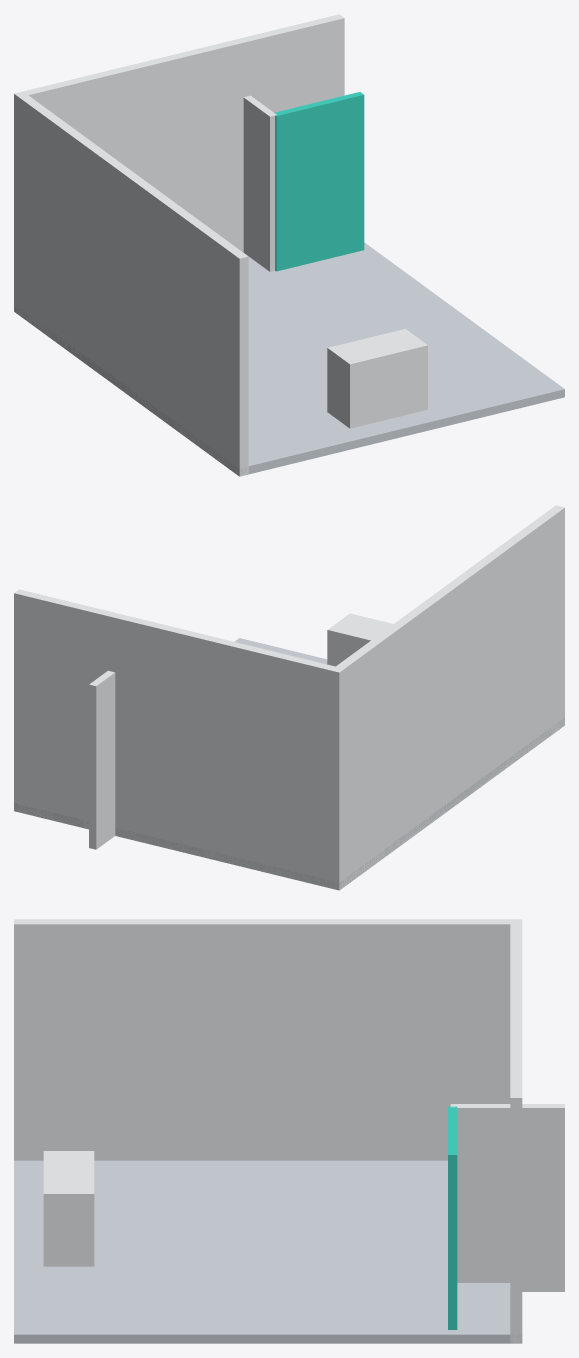
3 renders of one model, top to bottom at view 1: azimuth 30°, elevation 25°; view 2: azimuth 150°, elevation 25°; view 3: azimuth 270°, elevation 25°, orthographic. The views are drawn at different scales.
Visible parts, largest first — view 1: Exhibition Booth Concept; view 2: Exhibition Booth Concept; view 3: Exhibition Booth Concept.
Part boxes in pixels (bbox=[...]): Exhibition Booth Concept: bbox=[14, 14, 564, 476]; Exhibition Booth Concept: bbox=[14, 505, 564, 890]; Exhibition Booth Concept: bbox=[14, 919, 564, 1343].
Size of the model in its own units: 5 by 3.2 by 6.51.
